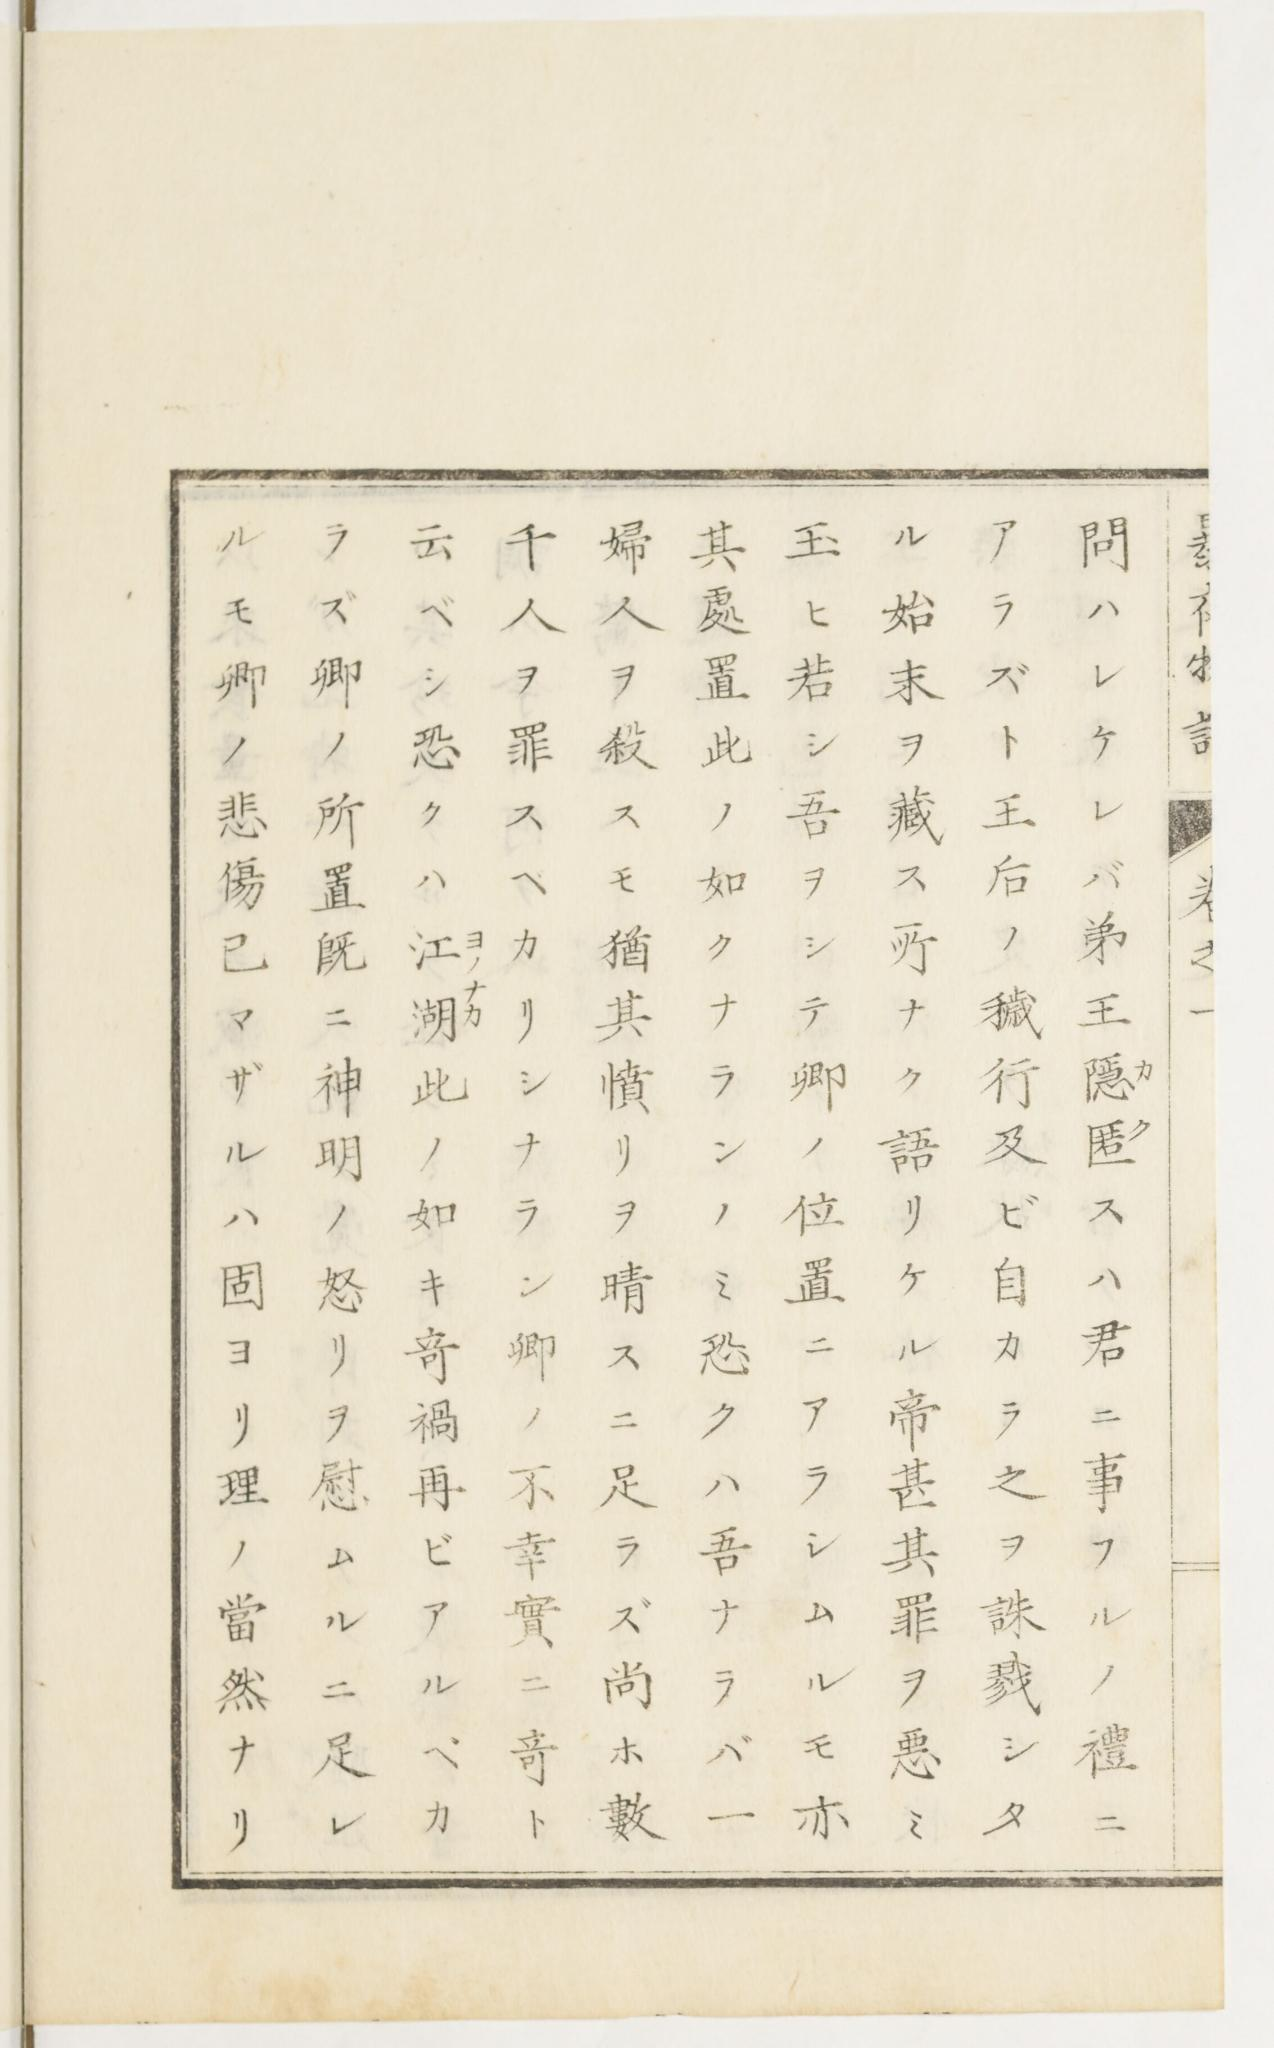MainZone-Character: (404, 974, 484, 1046), (1079, 1109, 1161, 1174), (1079, 1045, 1161, 1108), (405, 924, 486, 976)
MainZone-Ruby: (456, 977, 487, 1030), (461, 926, 484, 973), (1133, 1052, 1160, 1090), (1133, 1113, 1154, 1149)
